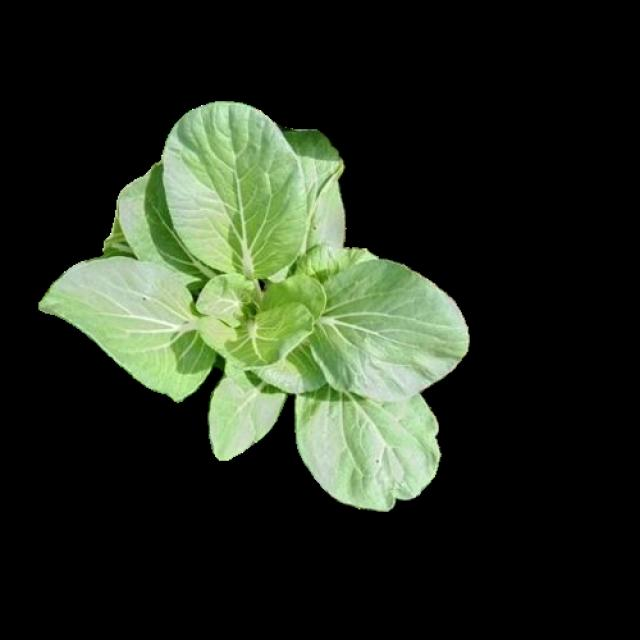healthy: (45, 123, 471, 531)
not-mature: (40, 105, 466, 513)
